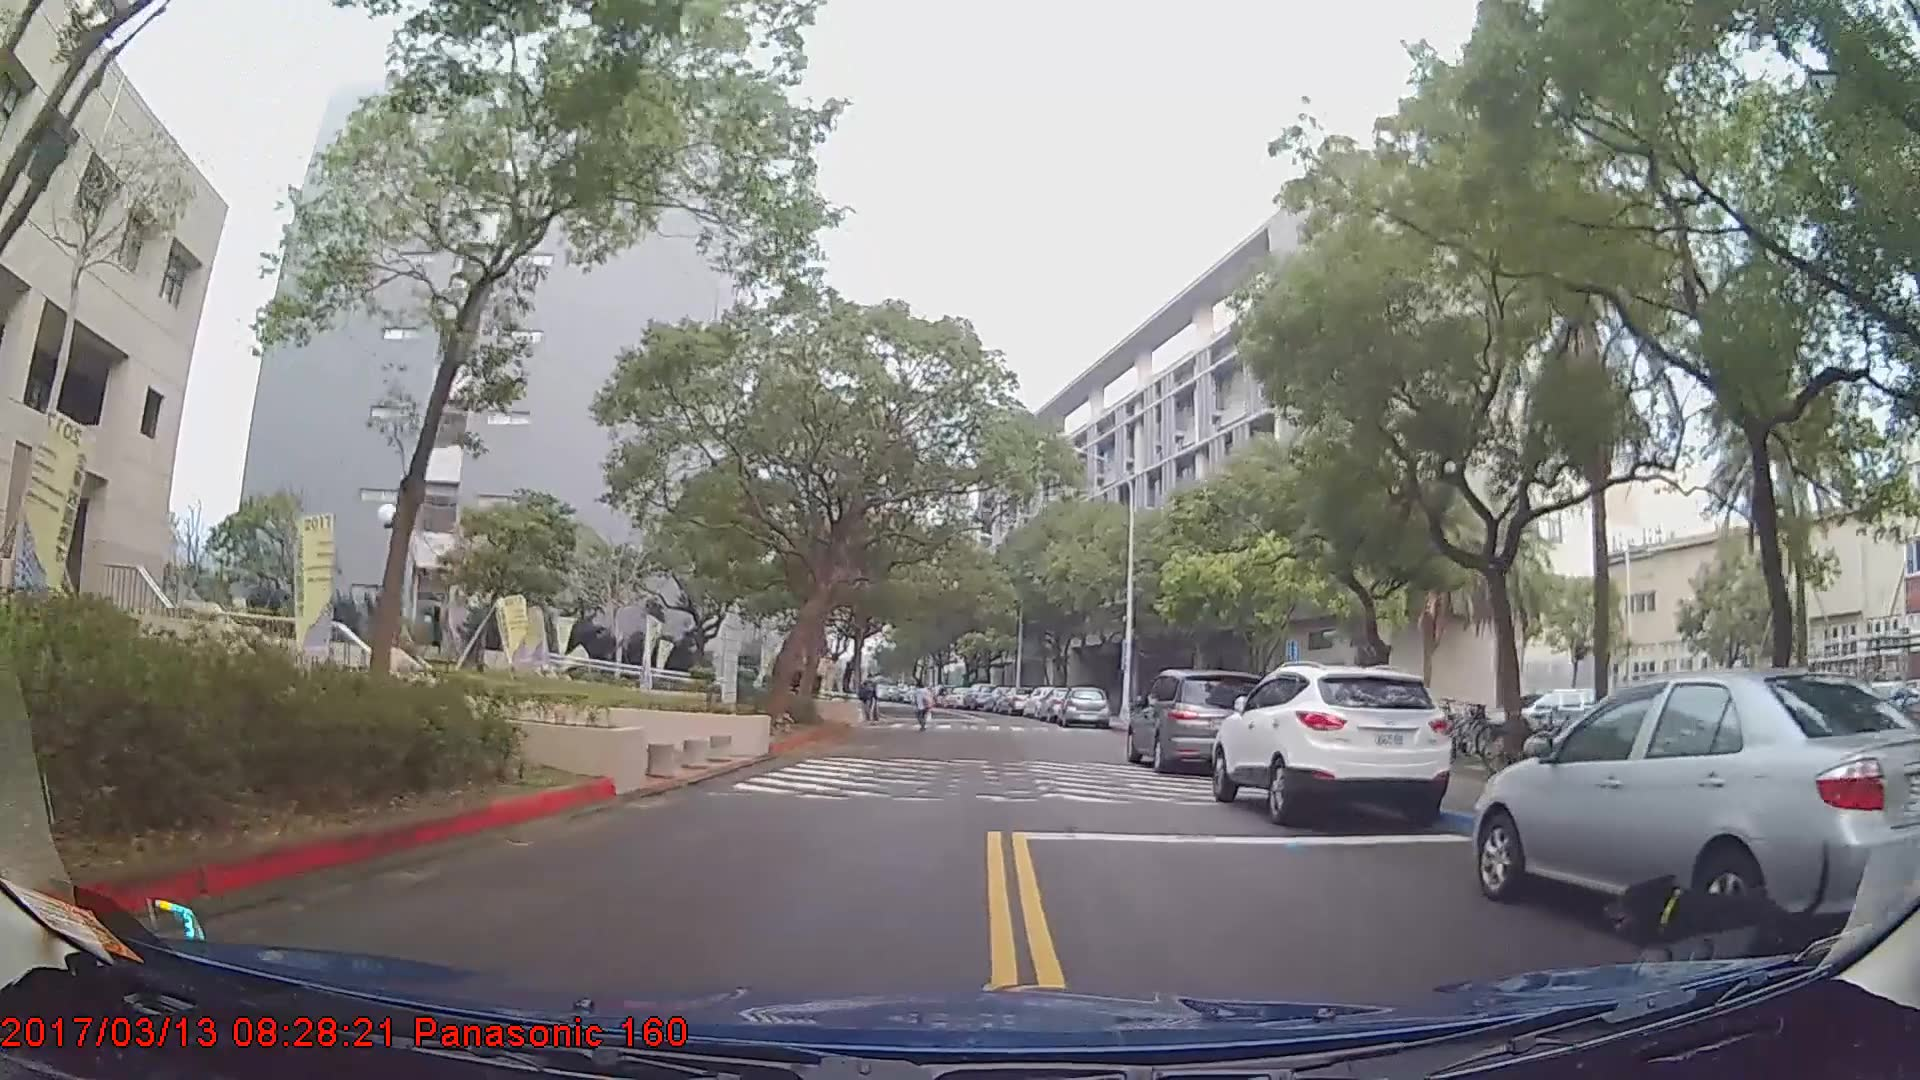pedestrian: (906, 679, 932, 732), (859, 674, 881, 723)
vehicle: (1474, 664, 1920, 944), (1210, 660, 1453, 829), (1124, 667, 1272, 770), (1059, 680, 1109, 727), (959, 680, 993, 710)
